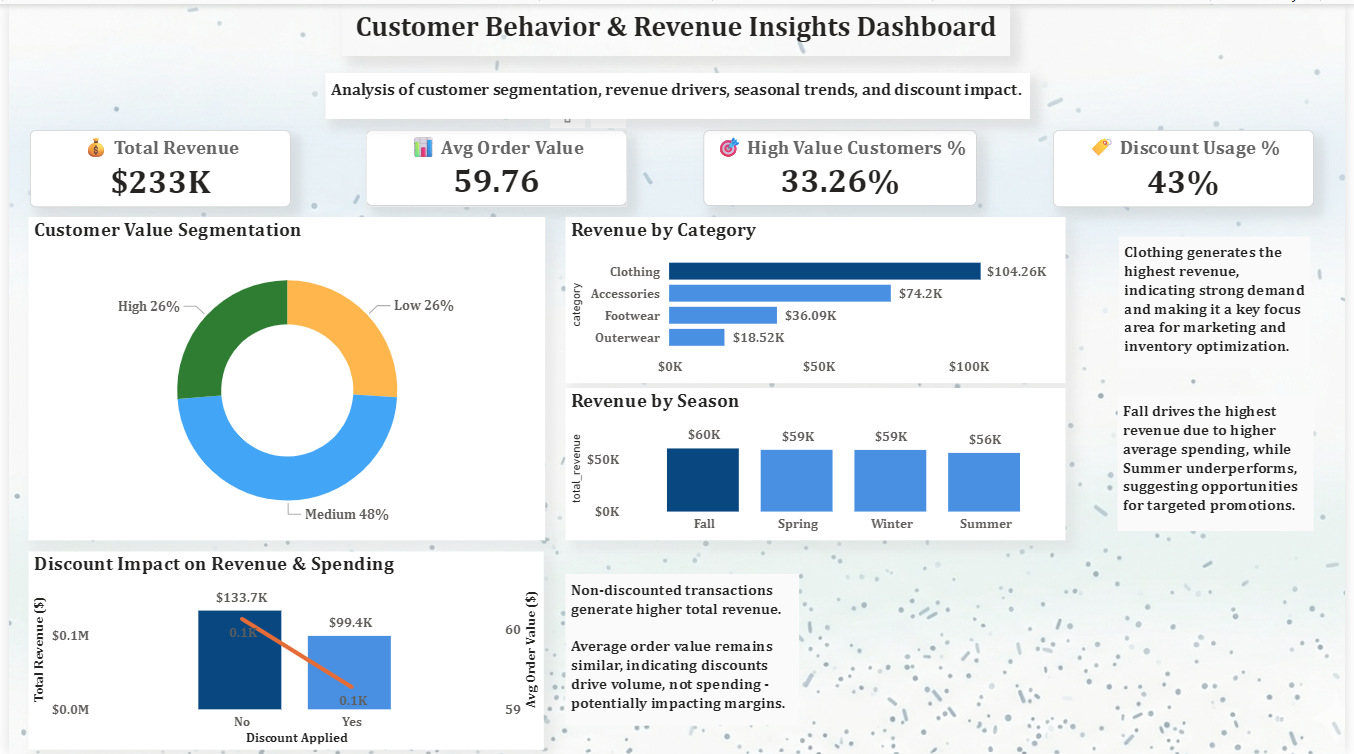

This screenshot's page, from the dashboard's own definition file:
{"tool":"powerbi","page":{"name":"Page 1","canvas":[1280,720],"ordinal":0},"visuals":[{"type":"card","title":"💰 Total Revenue","fields":{"Values":["myproject_customer_shopping.total_revenue"]},"box":[19.7,120.4,249.8,74.2],"z":0},{"type":"card","title":"📊 Avg Order Value","fields":{"Values":["myproject_customer_shopping.avg_order_value"]},"box":[342.7,121.1,249.8,72.7],"z":1000},{"type":"card","title":"🎯 High Value Customers %","fields":{"Values":["myproject_customer_shopping.high_value_%"]},"box":[665.7,121.1,262,72.7],"z":2000},{"type":"card","title":"🏷️ Discount Usage %","fields":{"Values":["myproject_customer_shopping.discount_%"]},"box":[1000.9,120.4,249.8,74.2],"z":3000},{"type":"donutChart","title":"Customer Value Segmentation","fields":{"Y":["CountNonNull(myproject_customer_shopping.customer_id)"],"Category":["myproject_customer_shopping.customer_segment"]},"box":[19,204.6,495.4,309.8],"z":4000},{"type":"clusteredBarChart","title":"Revenue by Category","fields":{"Category":["myproject_customer_shopping.category"],"Y":["myproject_customer_shopping.total_revenue"]},"box":[533.4,204.6,479.4,159.3],"z":5000},{"type":"clusteredColumnChart","title":"Revenue by Season","fields":{"Category":["myproject_customer_shopping.season"],"Y":["myproject_customer_shopping.total_revenue"]},"box":[533.4,368.3,479.4,146.1],"z":6000},{"type":"textbox","box":[1064.5,222.6,183.2,125.7],"z":7000},{"type":"textbox","box":[1063,375.5,187.8,130.2],"z":8000},{"type":"textbox","box":[533,546.6,224.1,145.4],"z":9000},{"type":"lineClusteredColumnComboChart","title":"Discount Impact on Revenue & Spending","fields":{"Category":["myproject_customer_shopping.discount_status"],"Y":["myproject_customer_shopping.total_revenue"],"Y2":["myproject_customer_shopping.avg_order_value"]},"box":[19,524.7,494,190],"z":10000},{"type":"textbox","box":[319.7,0,640.5,50],"z":11000},{"type":"textbox","box":[302.8,66.6,675.3,43.9],"z":12000}]}

Visuals, with their boxes in screenshot pixels (x1, y1, x2, y2), scaled from the page's 1280x720 canvas onto the 1354x754 screenshot:
"💰 Total Revenue" card: <box>21,126,285,204</box>
"📊 Avg Order Value" card: <box>363,127,627,203</box>
"🎯 High Value Customers %" card: <box>704,127,981,203</box>
"🏷️ Discount Usage %" card: <box>1059,126,1323,204</box>
"Customer Value Segmentation" donutChart: <box>20,214,544,539</box>
"Revenue by Category" clusteredBarChart: <box>564,214,1071,381</box>
"Revenue by Season" clusteredColumnChart: <box>564,386,1071,539</box>
textbox: <box>1126,233,1320,365</box>
textbox: <box>1124,393,1323,530</box>
textbox: <box>564,572,801,725</box>
"Discount Impact on Revenue & Spending" lineClusteredColumnComboChart: <box>20,549,543,748</box>
textbox: <box>338,0,1016,52</box>
textbox: <box>320,70,1035,116</box>
